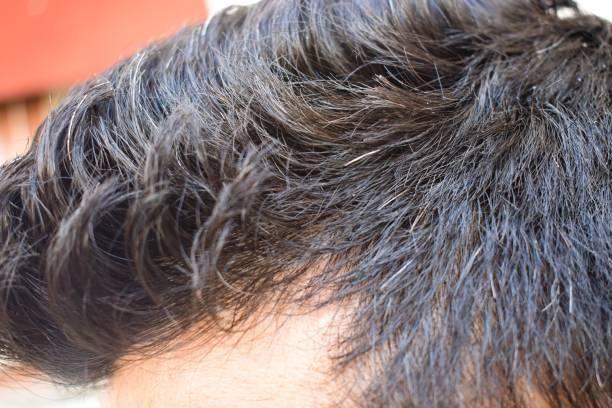dandruff: (575, 39, 593, 54), (573, 73, 586, 89), (525, 82, 541, 93), (598, 58, 608, 75), (422, 99, 434, 109)
dry hair: (225, 55, 379, 131), (516, 115, 582, 246), (149, 178, 305, 229), (315, 192, 487, 238), (424, 25, 485, 88)
grey hair: (124, 70, 147, 156), (64, 92, 88, 168), (340, 148, 384, 171), (483, 265, 505, 305), (562, 279, 578, 316)
